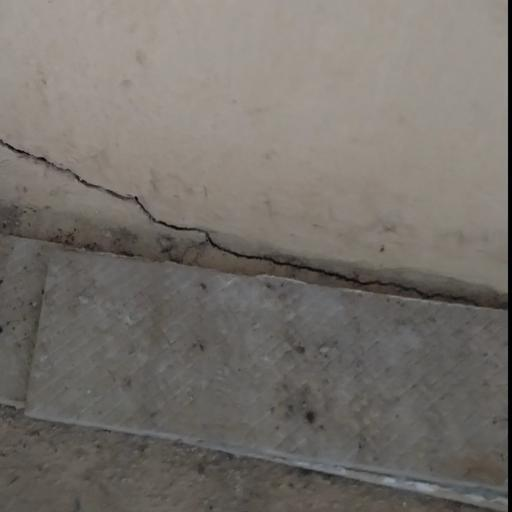major_crack: (0, 116, 512, 311)
